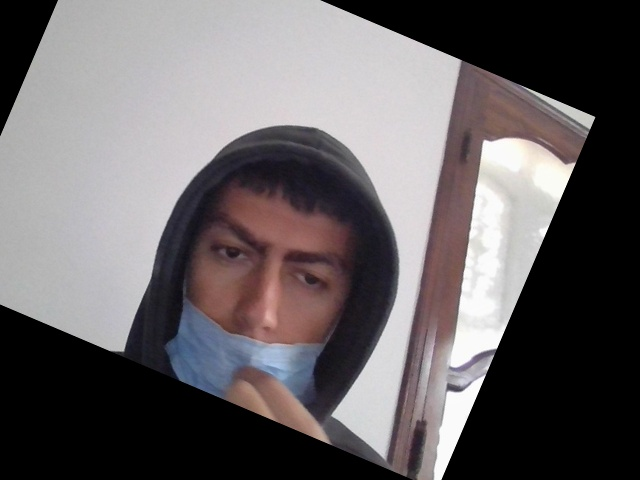mask_weared_incorrect: (163, 146, 358, 419)
